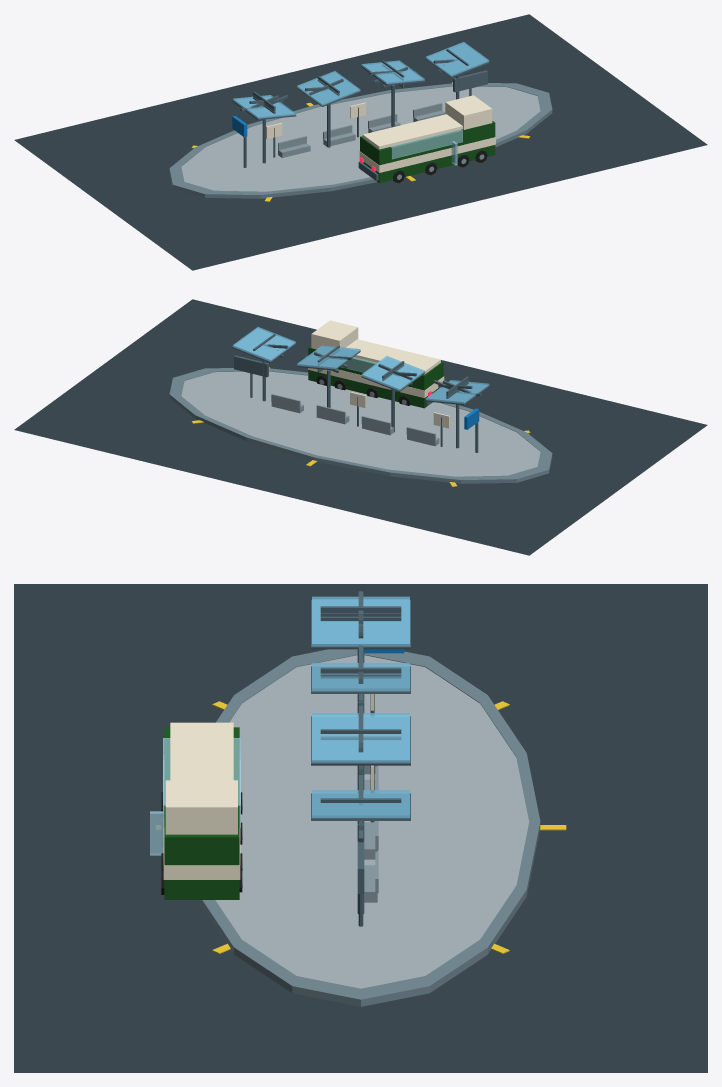
The model's file is tram_xe_buyt.glb.
The picture shows the model from 3 angles, top to bottom: view 1: azimuth 30°, elevation 25°; view 2: azimuth 150°, elevation 25°; view 3: azimuth 270°, elevation 25°; orthographic projection. The views are drawn at different scales.
Parts seen in each view (by area): view 1: Bus_Road, Bus_Island, Bus_Curb, Bus_VehicleBody, Bus_VehicleRoof, Bus_VehicleCabin, Bus_CanopyPanel_3, Bus_VehicleStripe, Bus_CanopyTrim_3, Bus_VehicleWindows, Bus_CanopyPanel_1, Bus_CanopyTrim_1 (+5 smaller); view 2: Bus_Road, Bus_Island, Bus_Curb, Bus_VehicleBody, Bus_VehicleRoof, Bus_CanopyPanel_3, Bus_VehicleCabin, Bus_CanopyTrim_3, Bus_CanopyPanel_1, Bus_CanopyTrim_1, Bus_CanopyPanel_2, Bus_VehicleStripe (+4 smaller); view 3: Bus_Road, Bus_Island, Bus_Curb, Bus_VehicleBody, Bus_CanopyPanel_2, Bus_VehicleCabin, Bus_CanopyTrim_2, Bus_VehicleRoof, Bus_CanopyPanel_0, Bus_CanopyTrim_0, Bus_CanopyPanel_3, Bus_CanopyPanel_1 (+4 smaller).
Part boxes in pixels (<box>): Bus_Road: <box>14,14,707,270</box>; Bus_Island: <box>181,86,540,191</box>; Bus_Curb: <box>169,83,552,198</box>; Bus_VehicleBody: <box>360,121,495,183</box>; Bus_VehicleRoof: <box>362,114,462,149</box>; Bus_VehicleCabin: <box>445,95,492,129</box>; Bus_CanopyPanel_3: <box>426,42,489,76</box>; Bus_VehicleStripe: <box>359,137,495,172</box>; Bus_CanopyTrim_3: <box>425,44,489,77</box>; Bus_VehicleWindows: <box>390,129,462,159</box>; Bus_CanopyPanel_1: <box>297,71,360,105</box>; Bus_CanopyTrim_1: <box>296,73,360,106</box>; Bus_Road: <box>14,299,707,555</box>; Bus_Island: <box>181,371,540,476</box>; Bus_Curb: <box>169,368,552,483</box>; Bus_VehicleBody: <box>308,346,443,408</box>; Bus_VehicleRoof: <box>345,339,440,374</box>; Bus_CanopyPanel_3: <box>232,327,295,361</box>; Bus_VehicleCabin: <box>311,320,358,349</box>; Bus_CanopyTrim_3: <box>232,329,296,362</box>; Bus_CanopyPanel_1: <box>361,356,424,390</box>; Bus_CanopyTrim_1: <box>361,358,425,391</box>; Bus_CanopyPanel_2: <box>297,345,360,368</box>; Bus_VehicleStripe: <box>308,368,444,397</box>; Bus_Road: <box>14,584,707,1072</box>; Bus_Island: <box>215,655,529,988</box>; Bus_Curb: <box>197,649,540,1006</box>; Bus_VehicleBody: <box>164,727,239,899</box>; Bus_CanopyPanel_2: <box>312,713,409,762</box>; Bus_VehicleCabin: <box>165,780,237,834</box>; Bus_CanopyTrim_2: <box>311,716,410,765</box>; Bus_VehicleRoof: <box>170,722,233,780</box>; Bus_CanopyPanel_0: <box>312,596,409,646</box>; Bus_CanopyTrim_0: <box>311,600,410,649</box>; Bus_CanopyPanel_3: <box>312,790,409,817</box>; Bus_CanopyPanel_1: <box>312,663,409,691</box>.
Bounding box in the file's own units: 40 × 5.12 × 24.
